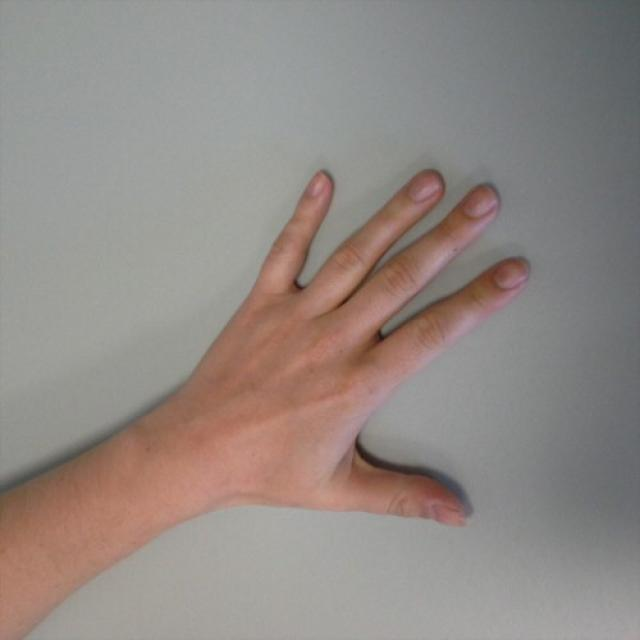paper: (219, 165, 532, 532)
